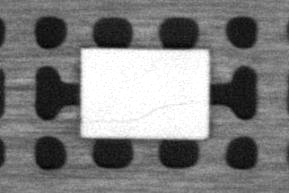DIE_CRACK: (94, 99, 196, 124)
